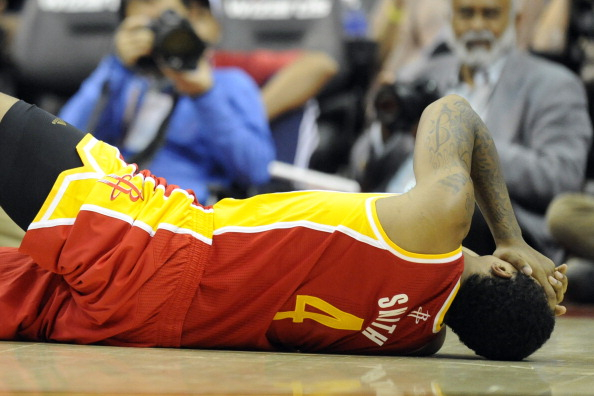fall: (2, 94, 559, 361)
